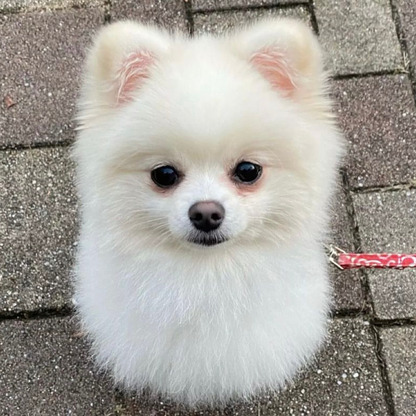Pomeranian: (70, 24, 344, 403)
